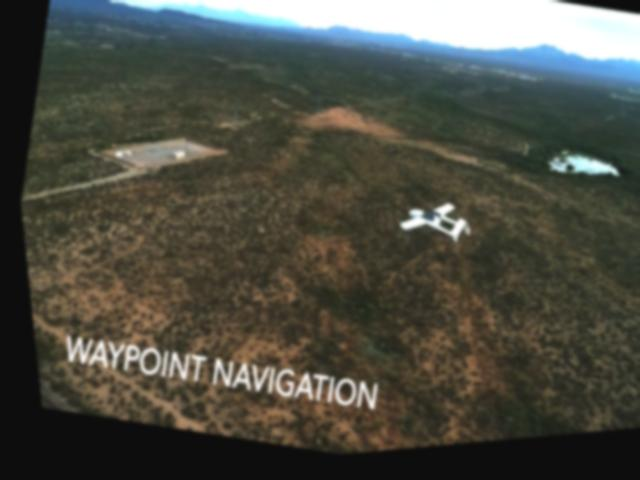plane: (389, 197, 472, 258)
